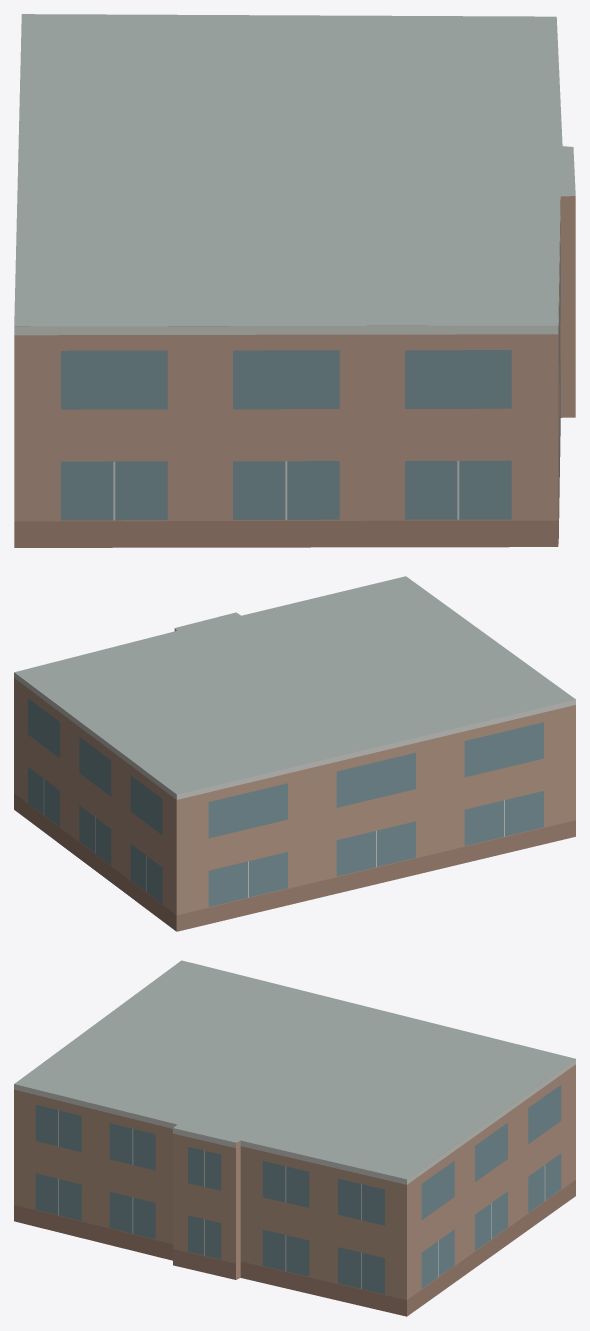
Rendered from survey-upis-32513315.glb.
3 views of the same model, one above another, from view 1: azimuth 30°, elevation 25°; view 2: azimuth 150°, elevation 25°; view 3: azimuth 270°, elevation 25° (orthographic). The views are drawn at different scales.
Visible parts, largest first — view 1: survey-upis-32513315.tmp; view 2: survey-upis-32513315.tmp; view 3: survey-upis-32513315.tmp.
Boxes of the visible parts, x1,y1,x2,y2 form: survey-upis-32513315.tmp: (14, 14, 575, 547); survey-upis-32513315.tmp: (14, 576, 575, 931); survey-upis-32513315.tmp: (14, 960, 575, 1316).
Bounding box in the file's own units: 20.89 × 6.1 × 22.64.
